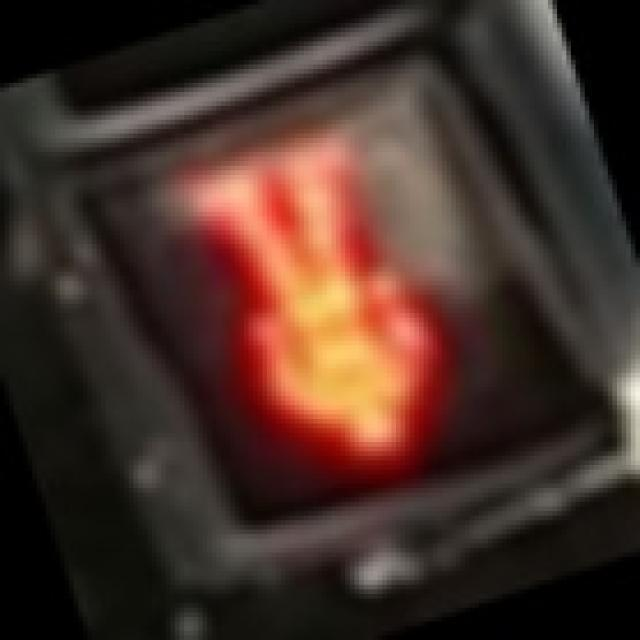red_light: (79, 59, 544, 576)
